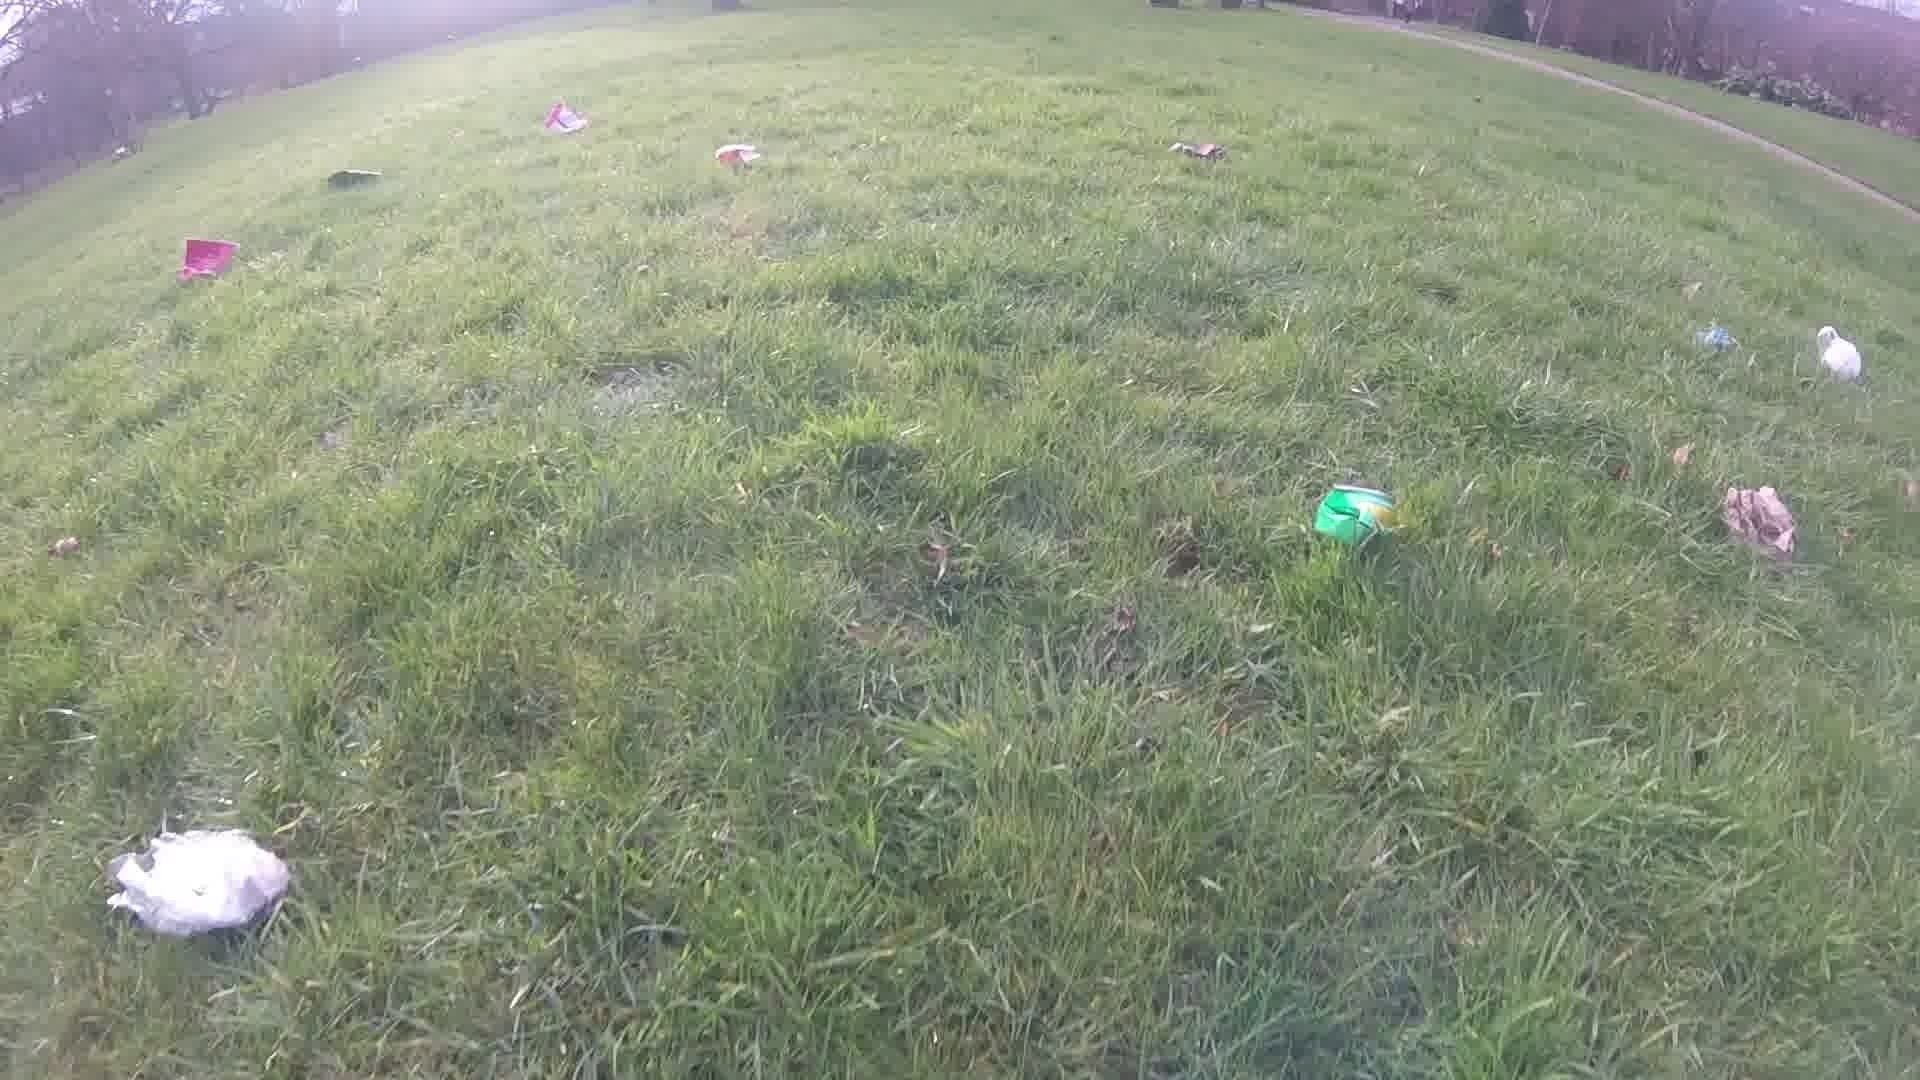litter: (105, 825, 286, 936), (1717, 485, 1796, 566), (1309, 484, 1393, 551), (1812, 326, 1863, 384), (177, 235, 243, 280), (543, 100, 584, 137), (1698, 320, 1730, 355), (1164, 142, 1218, 162), (716, 142, 757, 167), (323, 164, 371, 183)
